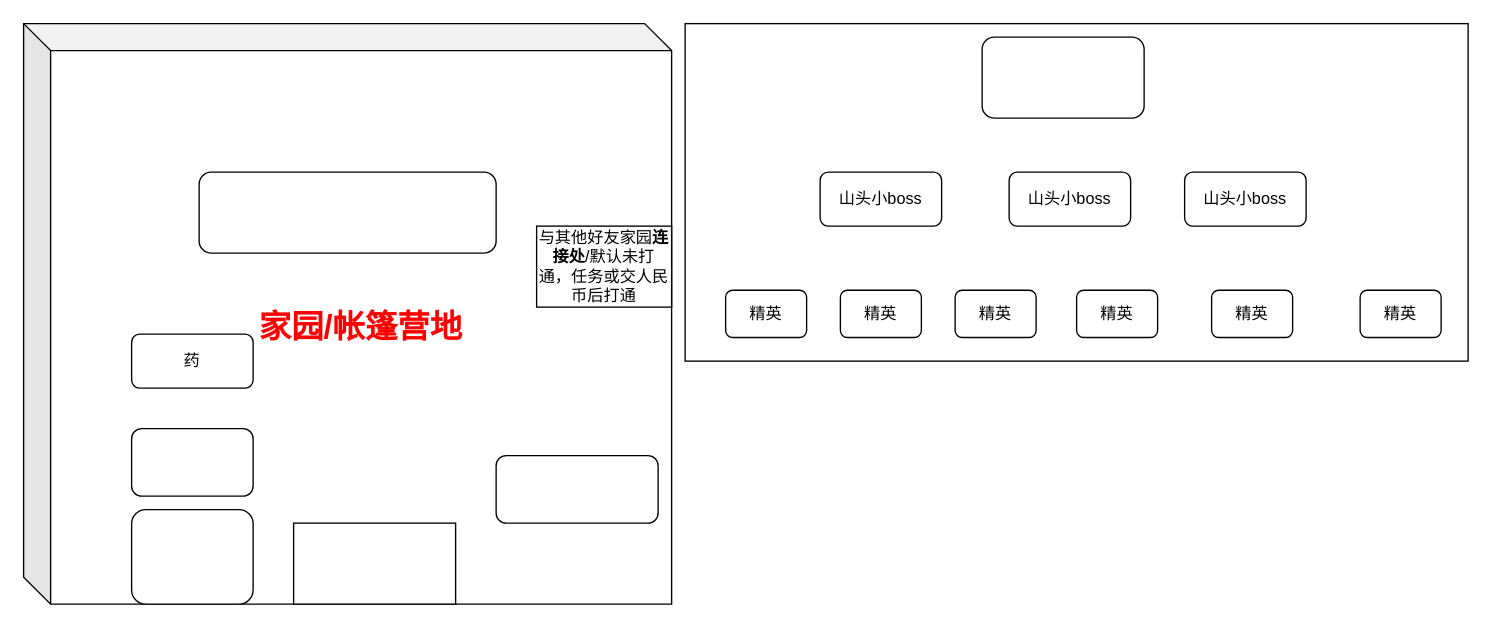
Image size: 1492x628. Some labels were removed from this diagram. The shapes that lost their labels are listed below. From the top down, each one's centre as x and y in pixels, then its label:
point 1062,77: 山头BOss
point 347,212: Home
point 191,461: 铁匠铺
point 576,488: 传送门
point 191,556: 连接后的 采矿/采药 点
point 374,563: 连接主大陆 出入口 ，防守点
